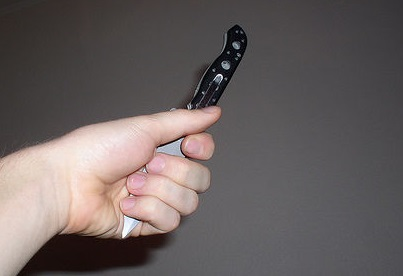knife: (109, 20, 252, 244)
